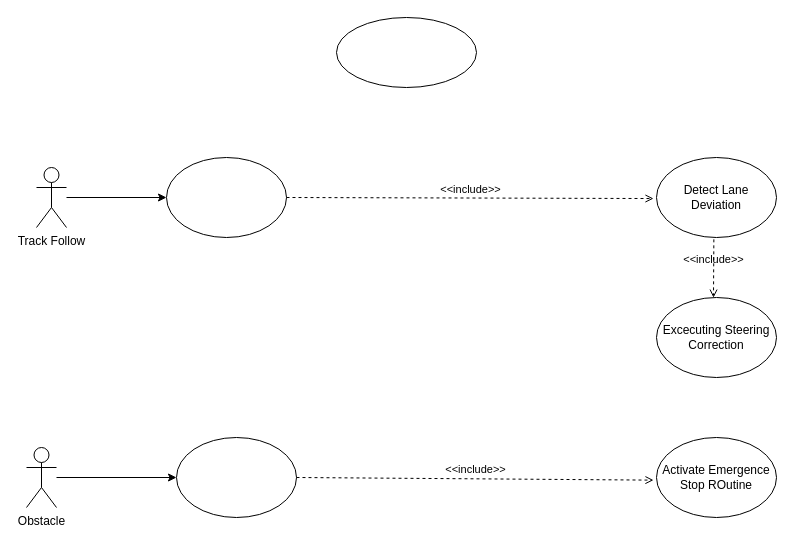
Some shapes in this 794 by 546 pixel diagram are drawn without their labels. Here are the shapes that lost their labels. From the top down, the box of each, then its label:
(336, 16, 476, 88): Use Case
(166, 156, 286, 238): Follow Line Track
(176, 436, 296, 518): Measure Obstackle DIstance
